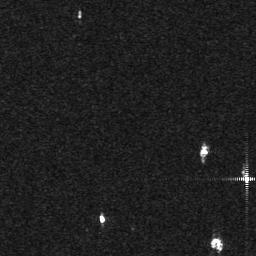ship: (200, 142, 208, 159), (99, 213, 106, 225)
